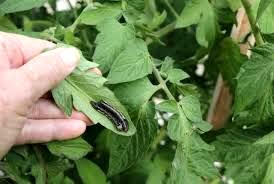Caterpillar: (90, 96, 131, 136)
